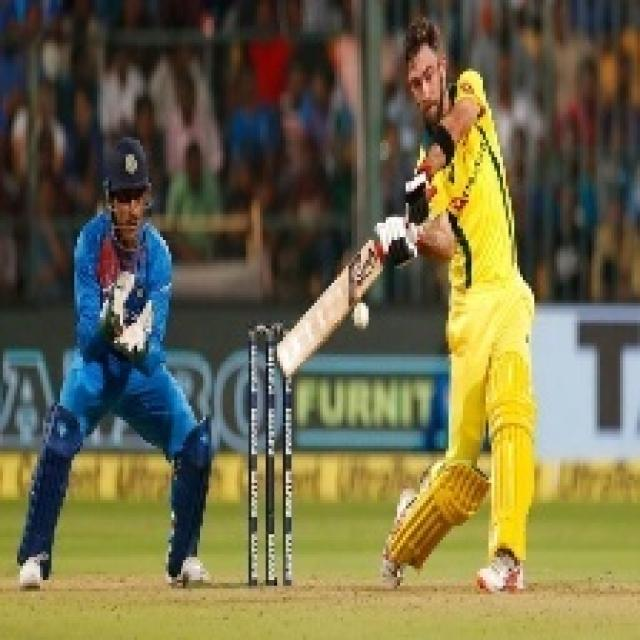batsman: (279, 10, 548, 597)
wicket: (235, 301, 301, 593)
